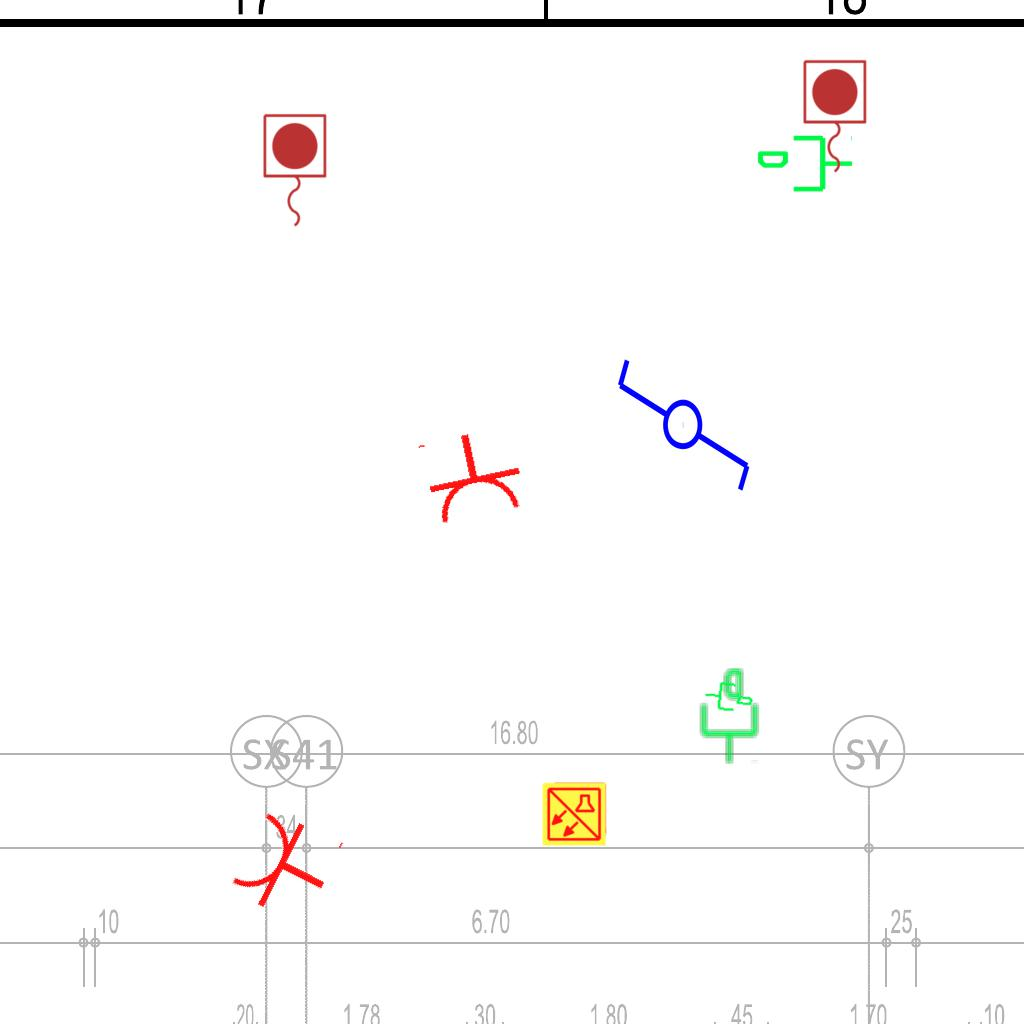Datenanschluss_einfach: (755, 131, 855, 200), (693, 666, 762, 766), (702, 676, 756, 716)
OKW_Multisensormelder_(Kombination_optischer_Rauch-Kahlenmonoxid_Waerme-Melder): (541, 781, 607, 847)
Schukosteckdose_einfach: (225, 800, 348, 930), (413, 423, 530, 529)
Wechselschalter: (613, 338, 757, 495)
Zugtaster: (258, 110, 330, 232), (798, 56, 870, 178)
